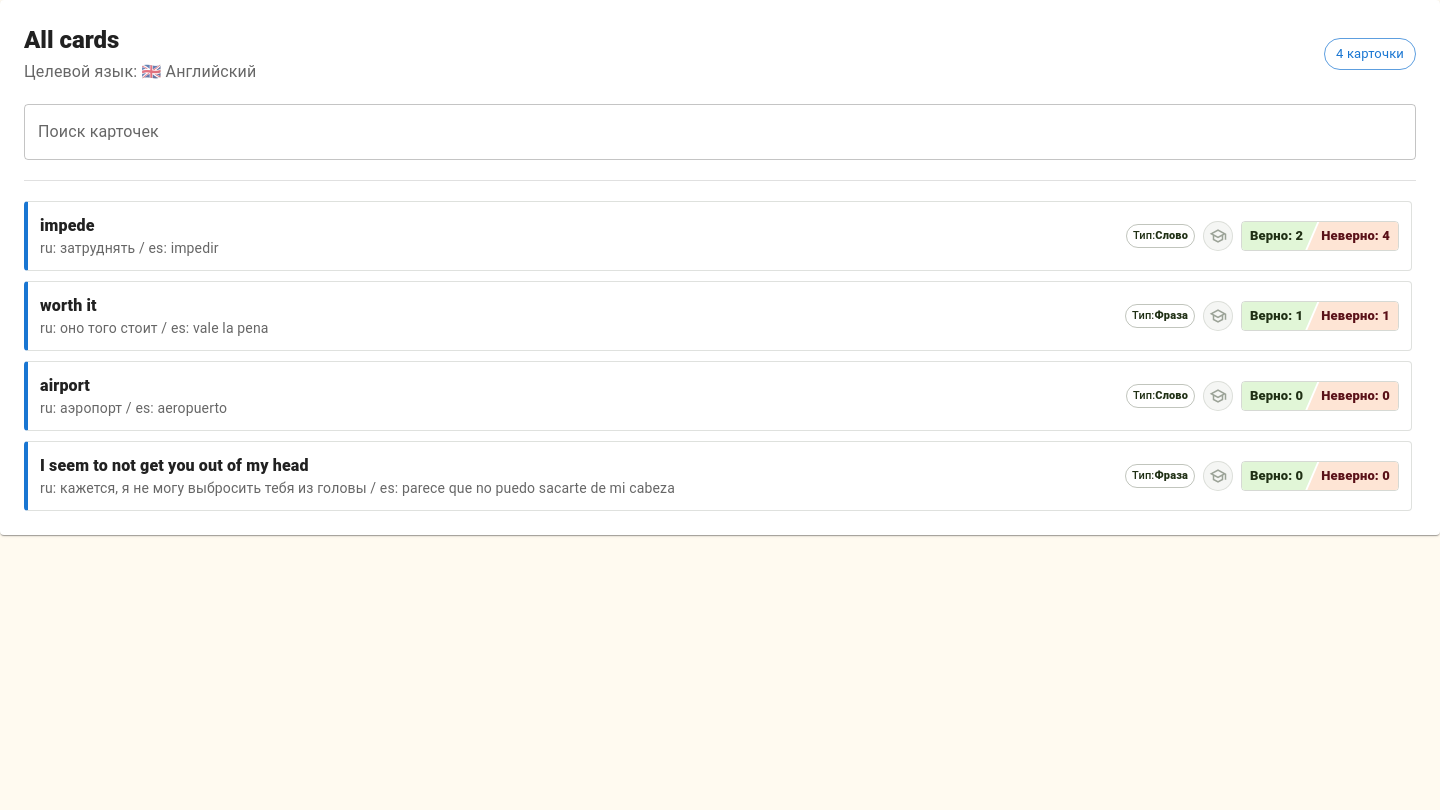
CardSetDetailView › sorts cards by total target attempts and shows compact kind chips with recent stats tooltips
Expected: the text "impede" is shown, [40,216,94,235]
Expected: the text "worth it" is shown, [40,296,97,315]
Step 1. Hover over the element with test id "card_set_detail__card_stats__card-impede__root" → x=1320, y=236, box [1241,221,1399,251]
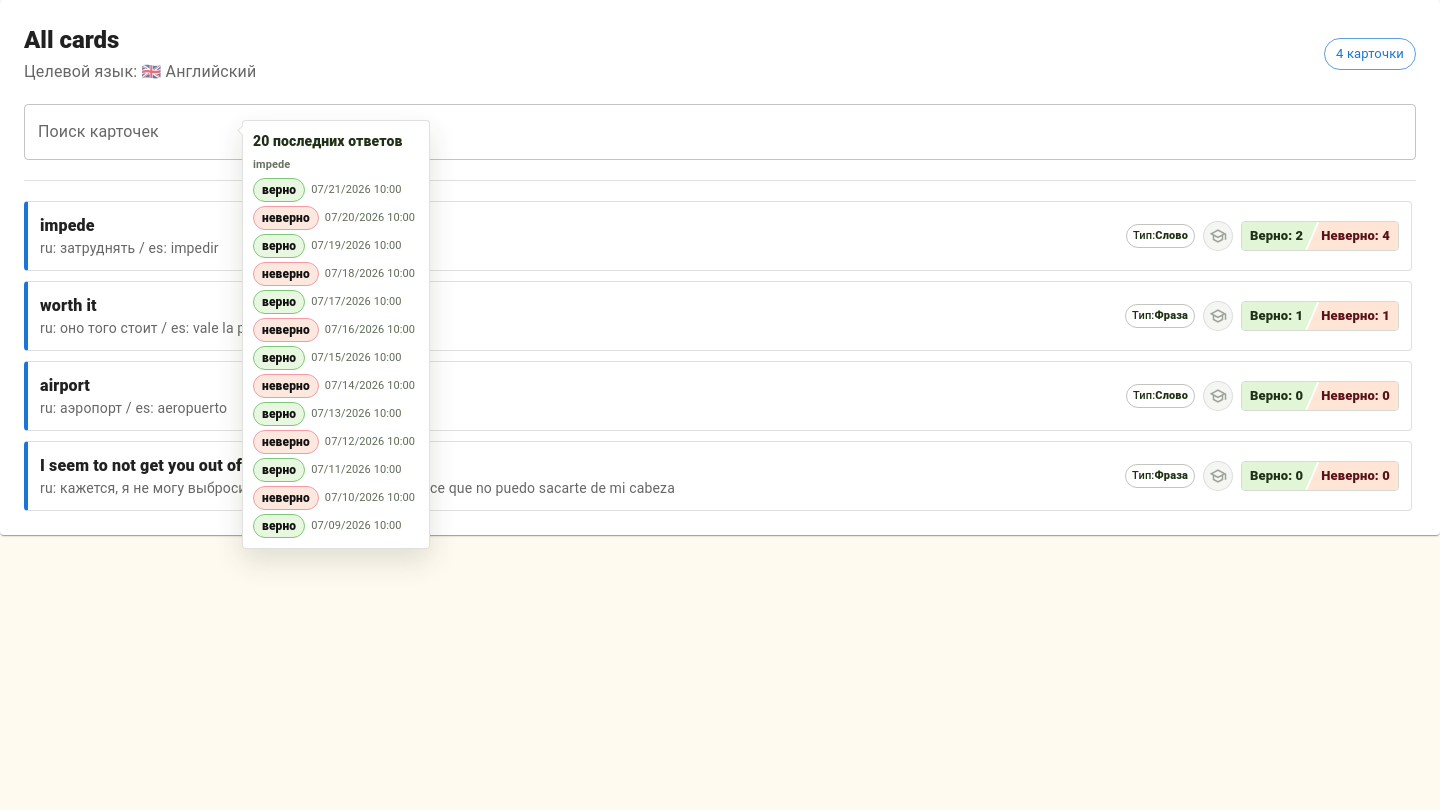
Expected: the element with test id "card_set_detail__card_stats__card-impede__tooltip_arrow" is shown, [235,125,243,136]
Now the text "20 последних ответов" is shown, box [253,131,419,152]
Now the text with test id "card_set_detail__card_stats__card-impede__recent_tooltip_subject" reads "impede", box [253,158,290,171]
Step 2. Hover over the element with test id "card_set_detail__card_stats__card-worth-it__root" → x=1320, y=316, box [1241,301,1399,331]
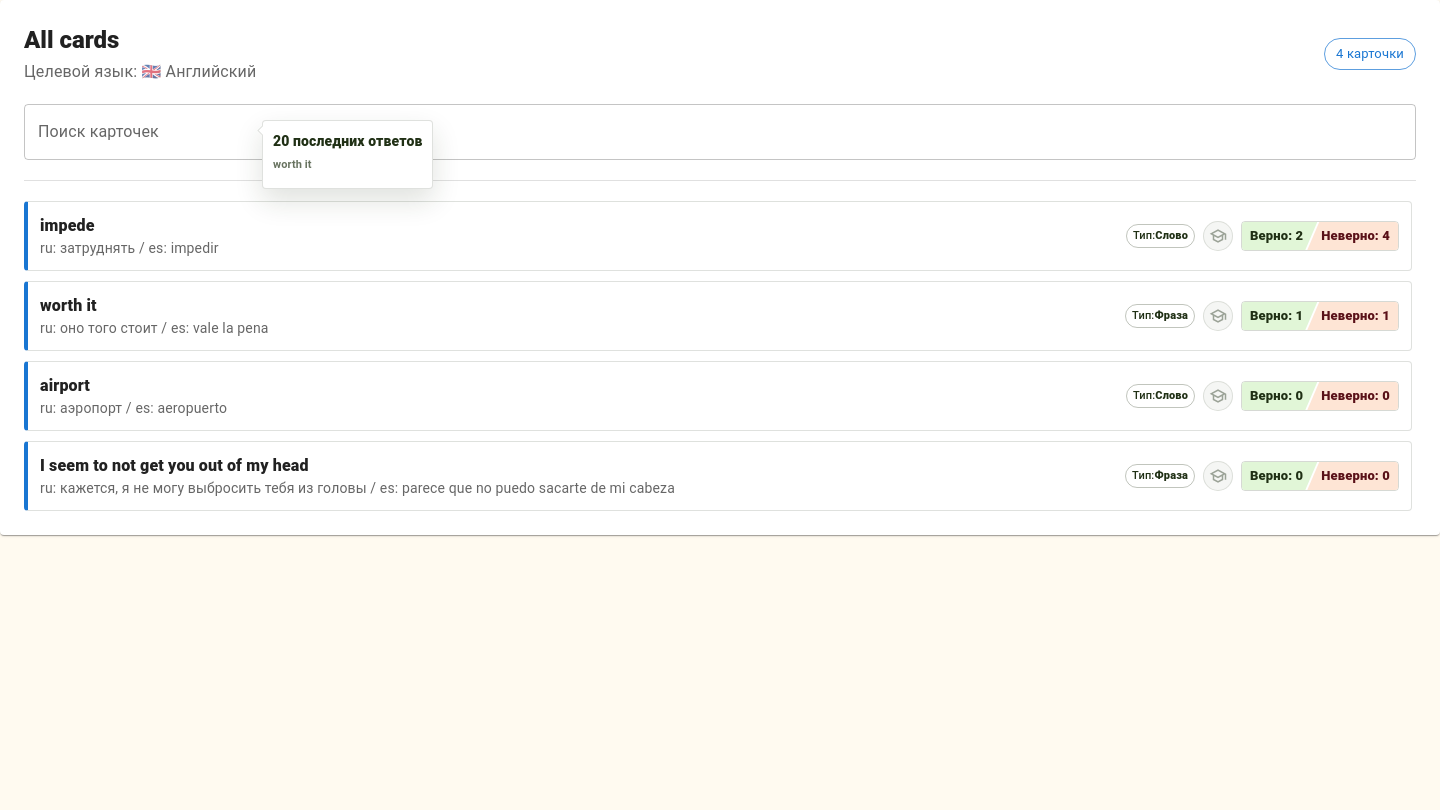
Now the element with test id "card_set_detail__card_stats__card-impede__recent_tooltip" is gone
Now the element with test id "card_set_detail__card_stats__card-worth-it__recent_tooltip" is shown, box [273,131,422,178]
